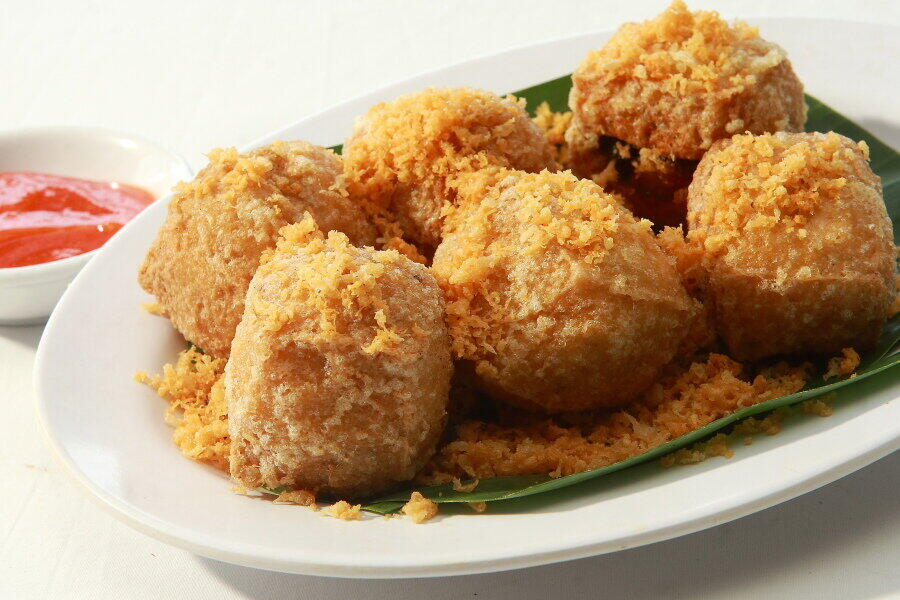Tahu: (440, 148, 693, 429), (212, 242, 449, 484), (686, 115, 889, 328), (593, 13, 820, 178), (153, 126, 321, 302), (373, 81, 548, 214)
